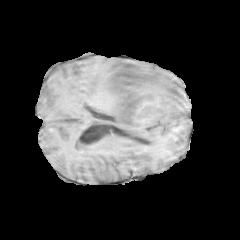glioma: (90, 66, 188, 146)
